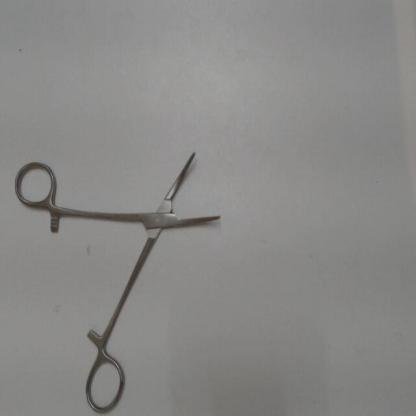Crile Artery Forceps: (8, 140, 226, 412)
